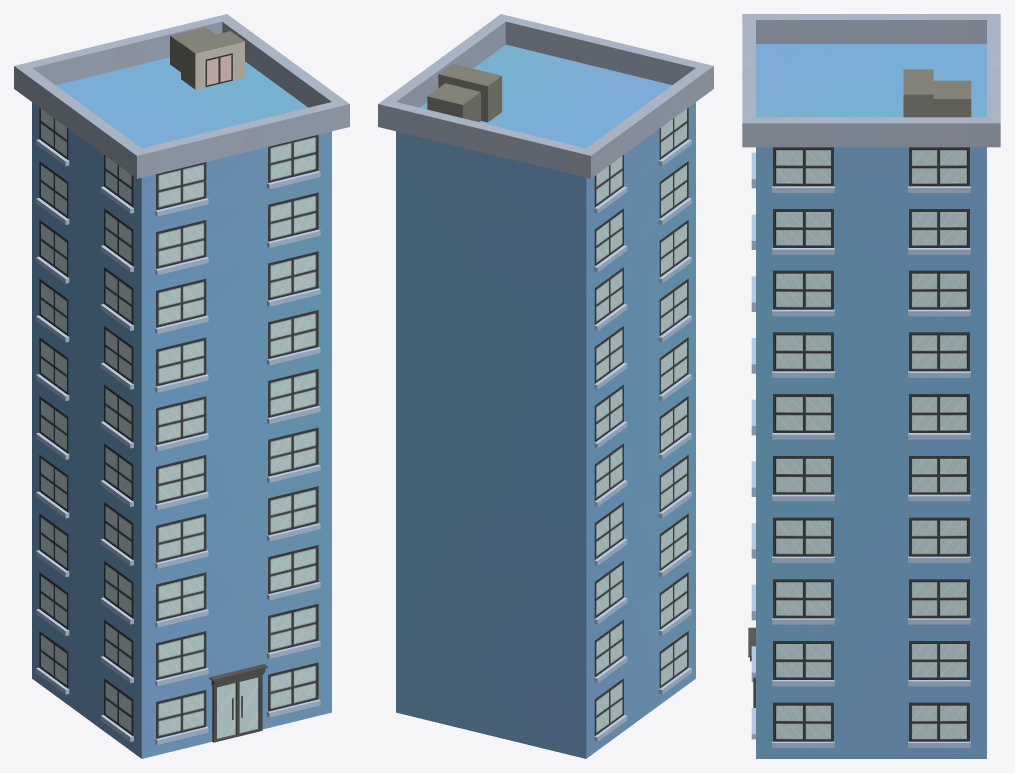
File: house-3.fbx
The picture shows the model from 3 angles, left to right: view 1: azimuth 30°, elevation 25°; view 2: azimuth 150°, elevation 25°; view 3: azimuth 270°, elevation 25°; orthographic projection. The views are drawn at different scales.
Visible parts, largest first — view 1: house3; view 2: house3; view 3: house3.
Boxes of the visible parts, left/top/right/bottom form: house3: left=14, top=14, right=349, bottom=758; house3: left=378, top=14, right=713, bottom=758; house3: left=742, top=14, right=1000, bottom=758.
Bounding box in the file's own units: 745 × 2087 × 745.
